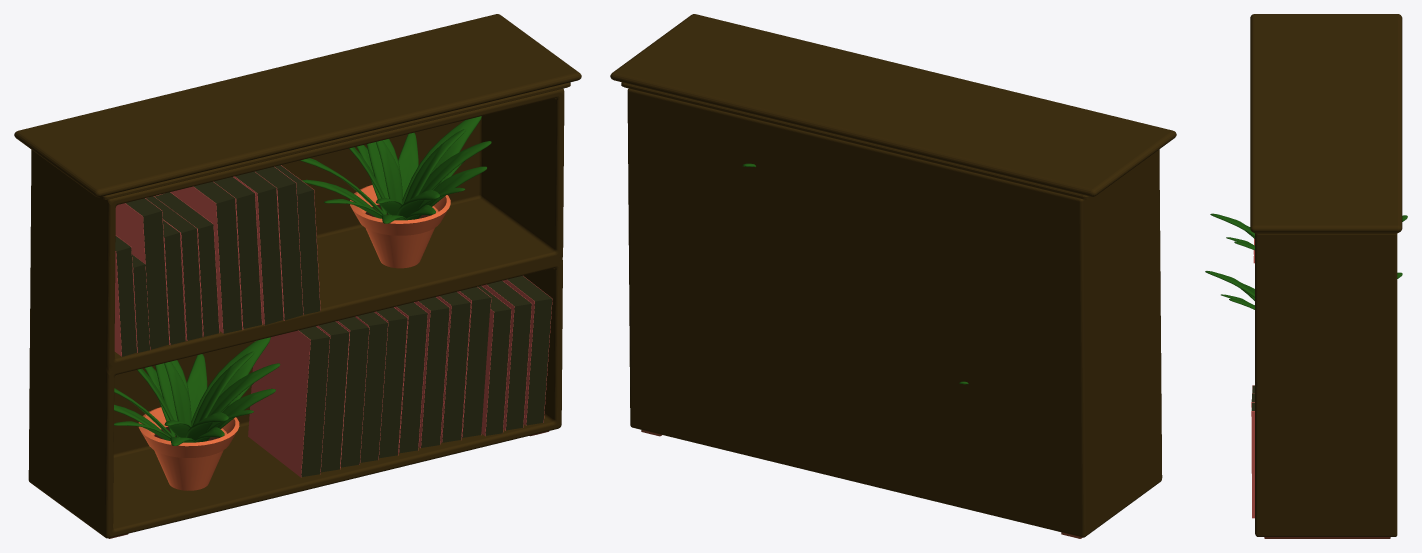
Rendered from bookshelf_flourishing.glb.
The picture shows the model from 3 angles, left to right: view 1: azimuth 30°, elevation 25°; view 2: azimuth 150°, elevation 25°; view 3: azimuth 270°, elevation 25°; orthographic projection. The views are drawn at different scales.
Visible parts, largest first — view 1: bookshelf_flourishing; view 2: bookshelf_flourishing; view 3: bookshelf_flourishing.
Boxes of the visible parts, x1,y1,x2,y2 form: bookshelf_flourishing: (14, 14, 581, 538); bookshelf_flourishing: (610, 14, 1176, 538); bookshelf_flourishing: (1205, 14, 1407, 538).
Bounding box in the file's own units: 2.23 × 1.57 × 0.8935.
